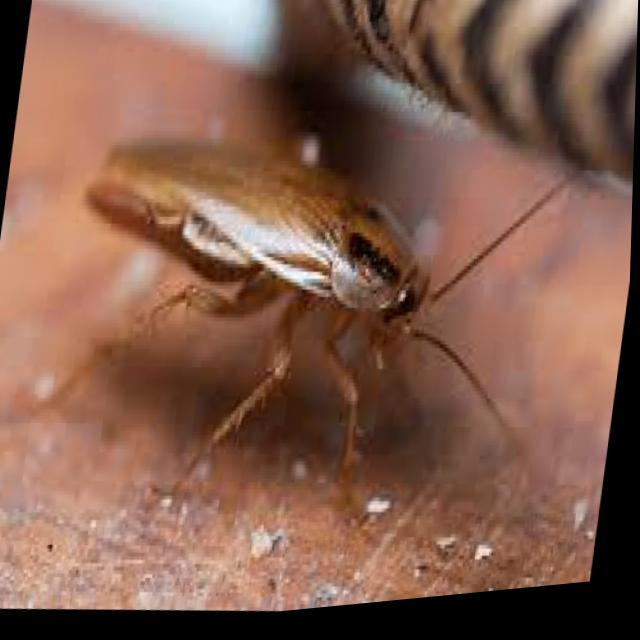Cockroach: (26, 55, 621, 595)
